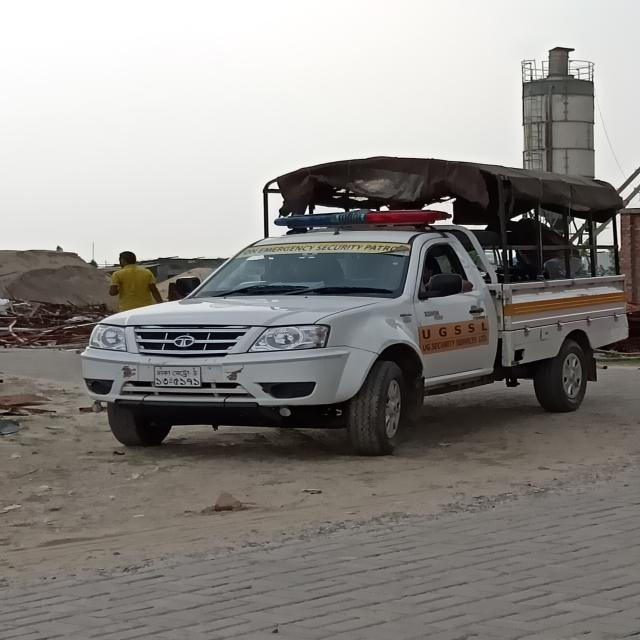pickup-van: (76, 132, 638, 462)
